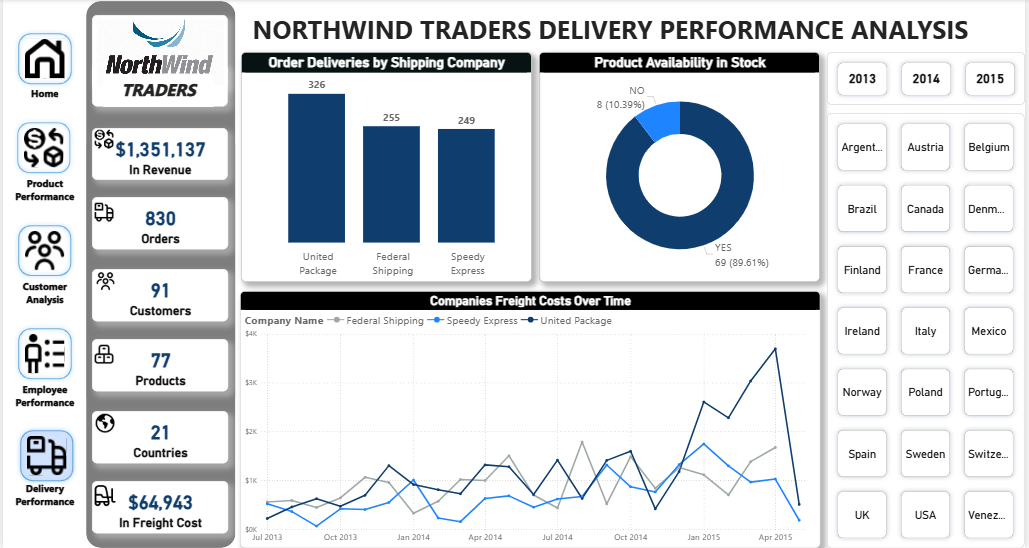

The page's visual inventory and layout, read from the dashboard file:
{"tool":"powerbi","page":{"name":"Delivery Performance","canvas":[1950,1050],"ordinal":4},"visuals":[{"type":"shape","box":[154.1,0,291.4,1050],"z":0},{"type":"actionButton","box":[21.3,57.9,118.2,113.6],"z":0,"group":"g7"},{"type":"group","id":"g1","title":"Group 1","box":[0,228.5,159.6,179],"z":0,"group":"g13"},{"type":"actionButton","box":[20.4,620.6,118.2,113.6],"z":0,"group":"g5"},{"type":"actionButton","box":[24.8,816.4,117.6,113.4],"z":0,"group":"g3"},{"type":"textbox","box":[471.5,18.9,1478.4,75.6],"z":1000},{"type":"actionButton","box":[19.5,228.5,117.8,113.4],"z":1000,"group":"g1"},{"type":"group","id":"g2","title":"Group 2","box":[0,424.8,159.6,178.5],"z":1000,"group":"g13"},{"type":"actionButton","box":[20.4,424.8,117.4,112.9],"z":2000,"group":"g2"},{"type":"group","id":"g3","title":"Group 4","box":[0,816.4,159.6,174.3],"z":2000,"group":"g13"},{"type":"group","id":"g4","title":"Group 6","box":[170.2,919.3,259.3,98.6],"z":2000},{"type":"group","id":"g5","title":"Group 3","box":[0,620.6,159.6,178.5],"z":3000,"group":"g13"},{"type":"group","id":"g6","title":"Group 7","box":[169.9,782.7,260,103],"z":3000},{"type":"group","id":"g7","title":"Group 4","box":[0,57.9,159.6,153.3],"z":4000,"group":"g13"},{"type":"donutChart","title":"Product Availability in Stock","fields":{"Y":["Count(order_details.productID)"],"Category":["products.Availability"]},"box":[1023.7,100.7,536.5,438.8],"z":4000,"group":"g15"},{"type":"shape","box":[169.9,124.3,259.3,81.4],"z":4000,"group":"g12"},{"type":"actionButton","box":[0,323.5,159.6,84],"z":4000,"group":"g1"},{"type":"group","id":"g8","title":"Group 8","box":[169.9,649.2,260,100],"z":4000},{"type":"group","id":"g9","title":"Group 9","box":[169.9,512.4,260,103.2],"z":5000},{"type":"actionButton","box":[0,519.7,160,85.1],"z":5000,"group":"g2"},{"type":"image","box":[170.6,31,259.3,141.1],"z":6000,"group":"g17"},{"type":"actionButton","box":[0,153,159.6,58.8],"z":6000,"group":"g7"},{"type":"card","title":"Total Revenue","fields":{"Values":["Sum(order_details.Revenue Generated)"]},"box":[170.2,246.6,259.3,98.6],"z":6000,"group":"g11"},{"type":"group","id":"g10","title":"Group 10","box":[169.9,378.8,260,100],"z":6000},{"type":"lineChart","title":"Companies Freight Costs Over Time","fields":{"Y":["Sum(Orders.freight)"],"Series":["shippers.companyName"],"Category":["Orders.orderDate.Variation.Date Hierarchy.Year","Orders.orderDate.Variation.Date Hierarchy.Month"]},"box":[452.1,556.4,1107.6,491.4],"z":6000,"group":"g15"},{"type":"actionButton","box":[0,715.5,160,85.1],"z":6000,"group":"g5"},{"type":"actionButton","box":[0,905.8,160,85.1],"z":6000,"group":"g3"},{"type":"advancedSlicerVisual","fields":{"Values":["Orders.orderDate.Variation.Date Hierarchy.Year"]},"box":[1572.2,100.7,377.7,101.3],"z":7000,"group":"g15"},{"type":"group","id":"g11","title":"Group 11","box":[170.2,240.2,259.3,105],"z":7000},{"type":"card","title":"Number of Countries","fields":{"Values":["Count(customers.country)"]},"box":[169.9,785.7,260,100],"z":7000,"group":"g6"},{"type":"group","id":"g12","title":"Group 14","box":[169.9,31,260,175.7],"z":8000},{"type":"clusteredColumnChart","title":"Order Deliveries by Shipping Company","fields":{"Category":["shippers.companyName"],"Y":["CountNonNull(Orders.orderID)"]},"box":[453.1,100.7,554.5,438.8],"z":8000,"group":"g15"},{"type":"textbox","box":[192.5,145.8,212,60.9],"z":8000,"group":"g17"},{"type":"group","id":"g13","title":"Group 15","box":[0,57.9,158.6,934.3],"z":9000},{"type":"advancedSlicerVisual","fields":{"Values":["customers.country"]},"box":[1572.2,216.4,376.7,831.5],"z":9000,"group":"g15"},{"type":"card","title":"Number of Orders","fields":{"Values":["Count(order_details.orderID)"]},"box":[169.9,378.8,260,100],"z":9000,"group":"g10"},{"type":"group","id":"g14","title":"Group 12","box":[452.1,100.7,1497.9,947.1],"z":10000},{"type":"card","title":"Number of Customers","fields":{"Values":["CountNonNull(customers.customerID)"]},"box":[169.9,515.6,260,100],"z":11000,"group":"g9"},{"type":"image","box":[171.1,240.2,46.2,54.6],"z":14000,"group":"g11"},{"type":"image","box":[172.9,512.4,44.1,54.6],"z":15000,"group":"g9"},{"type":"image","box":[171.8,782.7,46.2,54.6],"z":16000,"group":"g6"},{"type":"card","title":"Number of Products","fields":{"Values":["CountNonNull(products.productID)"]},"box":[169.9,649.2,260,100],"z":17000,"group":"g8"},{"type":"image","box":[170.8,379.8,46.2,54.6],"z":18000,"group":"g10"},{"type":"group","id":"g15","title":"Group 13","box":[452.1,100.7,1497.9,947.1],"z":18001,"group":"g14"},{"type":"card","title":"Total Freight Cost","fields":{"Values":["Sum(Orders.freight)"]},"box":[170.2,919.3,260,100],"z":19000,"group":"g4"},{"type":"image","box":[170.8,650.2,46.2,54.6],"z":20000,"group":"g8"},{"type":"group","id":"g16","title":"Group 13","box":[170.6,31,259.3,175.7],"z":21000,"group":"g12"},{"type":"group","id":"g17","title":"Group 12","box":[170.6,31,259.3,175.7],"z":22006,"group":"g16"},{"type":"image","box":[171.1,920.3,50.4,52.5],"z":24000,"group":"g4"}]}

Visuals, with their boxes in screenshot pixels (x1, y1, x2, y2), scaled from the page's 1950x1050 canvas onto the 1029x548 screenshot:
shape: Rect(81, 0, 235, 547)
actionButton: Rect(11, 30, 74, 90)
"Group 1" group: Rect(0, 119, 84, 213)
actionButton: Rect(11, 324, 73, 383)
actionButton: Rect(13, 426, 75, 485)
textbox: Rect(249, 10, 1028, 49)
actionButton: Rect(10, 119, 72, 178)
"Group 2" group: Rect(0, 222, 84, 315)
actionButton: Rect(11, 222, 73, 281)
"Group 4" group: Rect(0, 426, 84, 517)
"Group 6" group: Rect(90, 480, 227, 531)
"Group 3" group: Rect(0, 324, 84, 417)
"Group 7" group: Rect(90, 408, 227, 462)
"Group 4" group: Rect(0, 30, 84, 110)
"Product Availability in Stock" donutChart: Rect(540, 53, 823, 282)
shape: Rect(90, 65, 226, 107)
actionButton: Rect(0, 169, 84, 213)
"Group 8" group: Rect(90, 339, 227, 391)
"Group 9" group: Rect(90, 267, 227, 321)
actionButton: Rect(0, 271, 84, 316)
image: Rect(90, 16, 227, 90)
actionButton: Rect(0, 80, 84, 111)
"Total Revenue" card: Rect(90, 129, 227, 180)
"Group 10" group: Rect(90, 198, 227, 250)
"Companies Freight Costs Over Time" lineChart: Rect(239, 290, 823, 547)
actionButton: Rect(0, 373, 84, 418)
actionButton: Rect(0, 473, 84, 517)
advancedSlicerVisual - Orders.orderDate.Variation.Date Hierarchy.Year: Rect(830, 53, 1028, 105)
"Group 11" group: Rect(90, 125, 227, 180)
"Number of Countries" card: Rect(90, 410, 227, 462)
"Group 14" group: Rect(90, 16, 227, 108)
"Order Deliveries by Shipping Company" clusteredColumnChart: Rect(239, 53, 532, 282)
textbox: Rect(102, 76, 213, 108)
"Group 15" group: Rect(0, 30, 84, 518)
advancedSlicerVisual - customers.country: Rect(830, 113, 1028, 547)
"Number of Orders" card: Rect(90, 198, 227, 250)
"Group 12" group: Rect(239, 53, 1028, 547)
"Number of Customers" card: Rect(90, 269, 227, 321)
image: Rect(90, 125, 115, 154)
image: Rect(91, 267, 115, 296)
image: Rect(91, 408, 115, 437)
"Number of Products" card: Rect(90, 339, 227, 391)
image: Rect(90, 198, 115, 227)
"Group 13" group: Rect(239, 53, 1028, 547)
"Total Freight Cost" card: Rect(90, 480, 227, 532)
image: Rect(90, 339, 115, 368)
"Group 13" group: Rect(90, 16, 227, 108)
"Group 12" group: Rect(90, 16, 227, 108)
image: Rect(90, 480, 117, 508)
